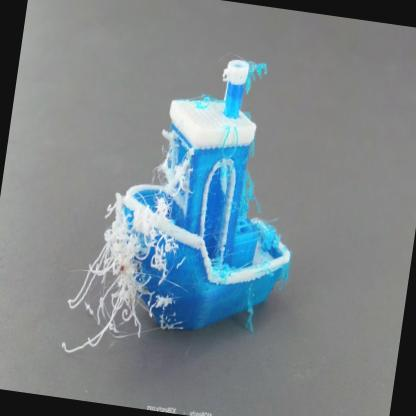fail: (60, 179, 183, 366), (239, 161, 264, 219), (245, 58, 271, 99)
